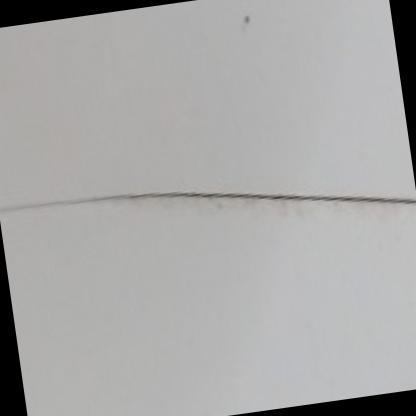Crack: (0, 87, 415, 306)
